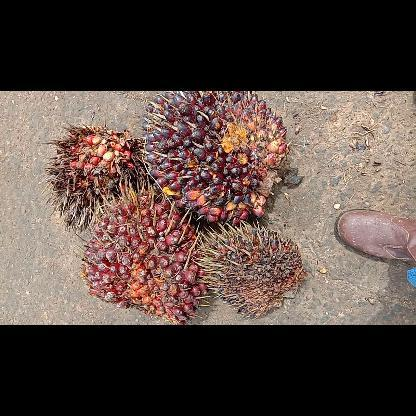Kurang masak: (138, 90, 289, 228)
TBS abnormal: (191, 218, 305, 320)
TBS masak: (76, 192, 206, 324)
Terlalu masak: (37, 122, 146, 233)
